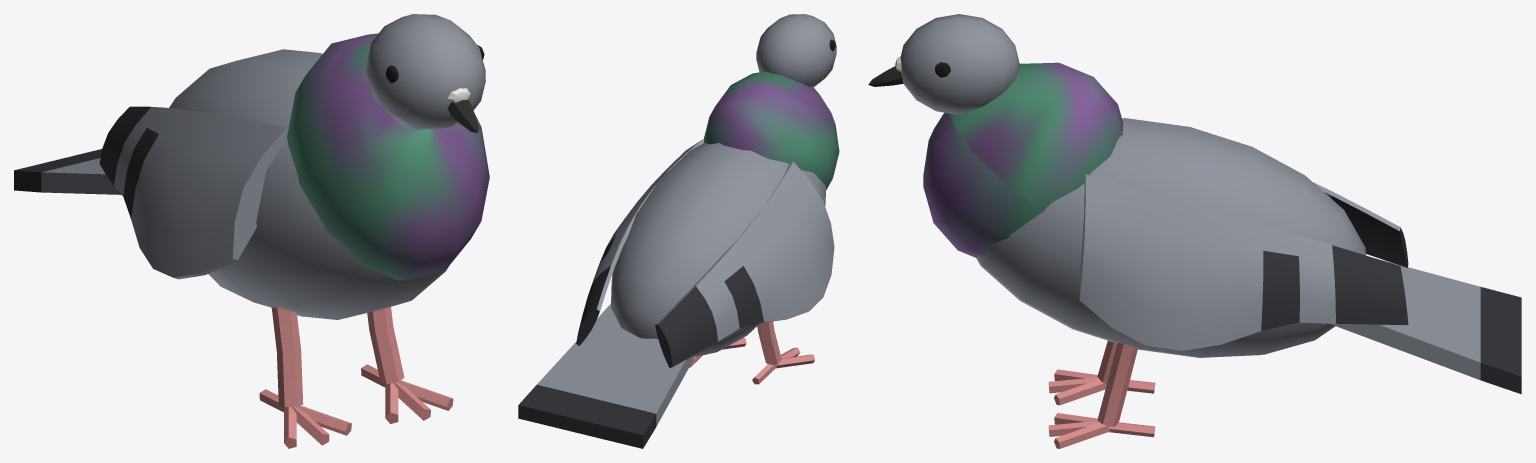
File: Pigeon.fbx
The picture shows the model from 3 angles, left to right: view 1: azimuth 30°, elevation 25°; view 2: azimuth 150°, elevation 25°; view 3: azimuth 270°, elevation 25°; orthographic projection. The views are drawn at different scales.
Visible parts, largest first — view 1: Pigeon_Mesh, Wing_R; view 2: Pigeon_Mesh, Wing_R, Wing_L; view 3: Pigeon_Mesh, Wing_L, Wing_R.
Boxes of the visible parts, x1,y1,x2,y2 form: Pigeon_Mesh: (14,14,489,448); Wing_R: (99,106,288,279); Pigeon_Mesh: (518,14,839,448); Wing_R: (655,161,834,367); Wing_L: (576,139,703,345); Pigeon_Mesh: (868,14,1521,448); Wing_L: (1079,174,1408,350); Wing_R: (1313,182,1408,267).
Size of the model in its own units: 0.1523 by 0.224 by 0.3347.
